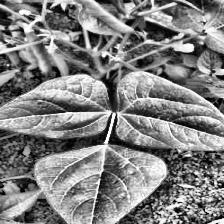Bean Rust: (34, 145, 168, 224), (110, 67, 224, 150), (0, 74, 110, 138)
